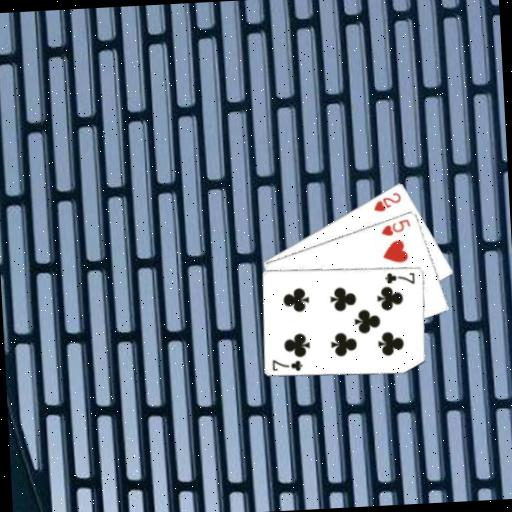2H: (370, 189, 404, 214)
5H: (377, 215, 412, 237)
7C: (269, 355, 304, 374), (382, 269, 417, 287)
